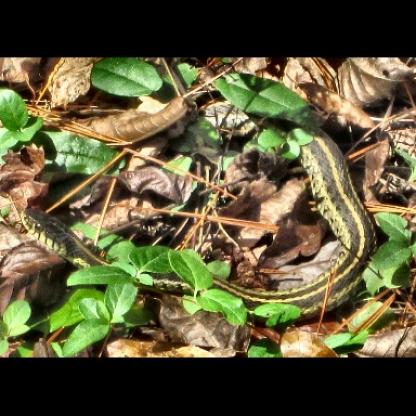Snake: (16, 204, 373, 315)
